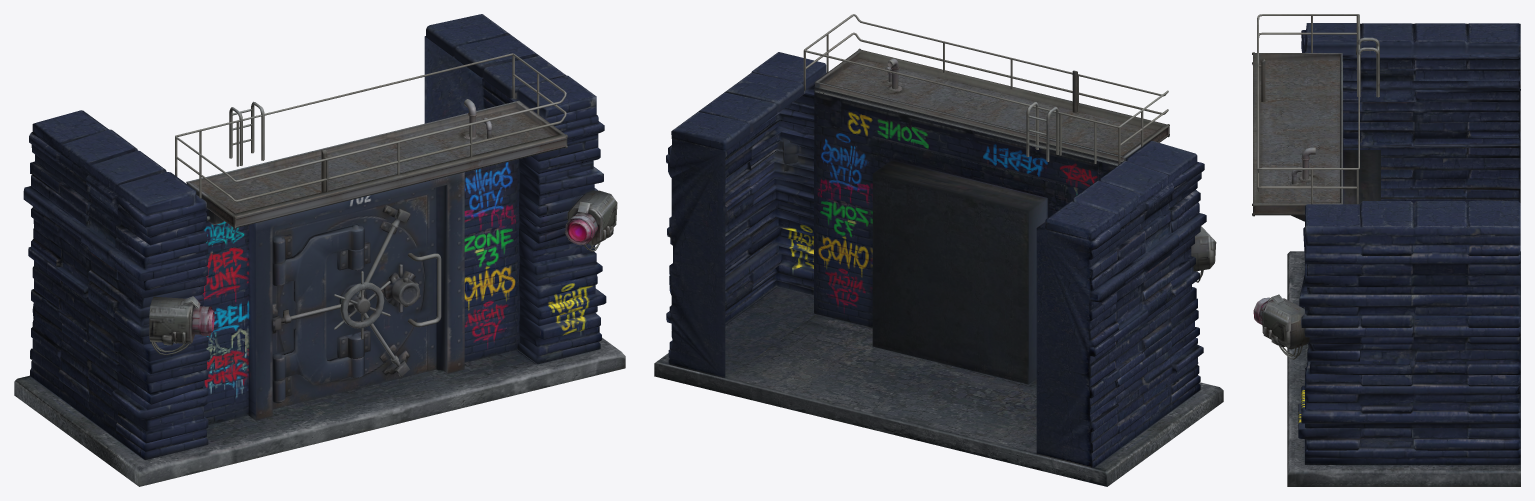
Rendered from SM_GraffitiVaultDoor.fbx.
3 views of the same model, side by side, from view 1: azimuth 30°, elevation 25°; view 2: azimuth 150°, elevation 25°; view 3: azimuth 270°, elevation 25° (orthographic). The views are drawn at different scales.
Parts seen in each view (by area): view 1: tripo_00f8782e_c13b_478f_b88b_8f49d26eb248; view 2: tripo_00f8782e_c13b_478f_b88b_8f49d26eb248; view 3: tripo_00f8782e_c13b_478f_b88b_8f49d26eb248.
Boxes of the visible parts, left/top/right/bottom form: tripo_00f8782e_c13b_478f_b88b_8f49d26eb248: left=14, top=14, right=625, bottom=486; tripo_00f8782e_c13b_478f_b88b_8f49d26eb248: left=654, top=14, right=1223, bottom=486; tripo_00f8782e_c13b_478f_b88b_8f49d26eb248: left=1252, top=14, right=1520, bottom=486.
Bounding box in the file's own units: 0.9995 × 0.6128 × 0.5122.
1 material, 1 textured.
